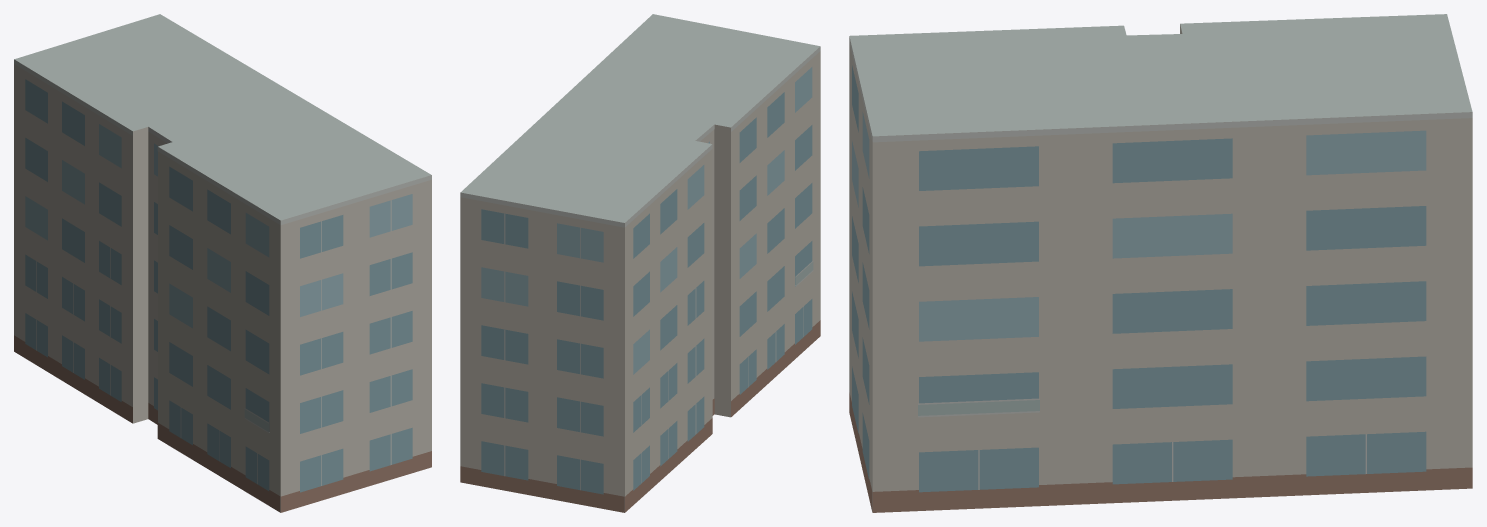
The model's file is survey-upis-32654923.glb.
The picture shows the model from 3 angles, left to right: view 1: azimuth 30°, elevation 25°; view 2: azimuth 150°, elevation 25°; view 3: azimuth 270°, elevation 25°; orthographic projection. The views are drawn at different scales.
Parts seen in each view (by area): view 1: survey-upis-32654923.tmp; view 2: survey-upis-32654923.tmp; view 3: survey-upis-32654923.tmp.
Part boxes in pixels (box(x1,y1,x2,y2)): survey-upis-32654923.tmp: box(14, 14, 431, 512); survey-upis-32654923.tmp: box(460, 14, 820, 512); survey-upis-32654923.tmp: box(849, 14, 1472, 512).
Size of the model in its own units: 10.68 by 15.3 by 22.96.
